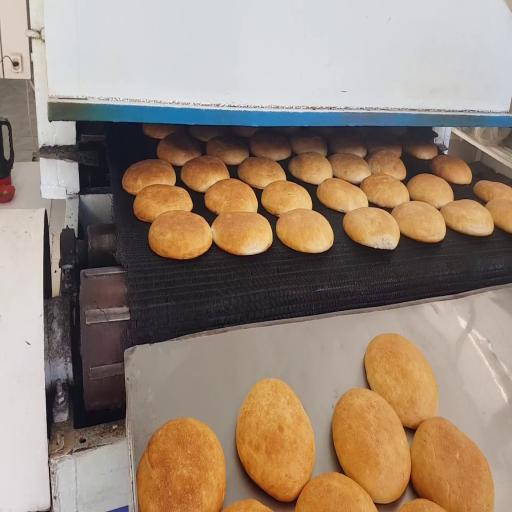bread: (236, 379, 314, 502), (333, 389, 410, 503), (137, 418, 225, 511), (411, 417, 494, 511), (365, 334, 438, 429), (296, 473, 377, 511), (149, 211, 212, 259), (212, 212, 272, 255), (276, 209, 333, 253), (343, 208, 399, 249), (134, 184, 193, 222), (392, 202, 445, 242), (122, 159, 175, 195), (441, 200, 493, 236), (205, 179, 257, 214), (261, 181, 312, 216), (180, 156, 229, 192), (317, 178, 368, 212), (361, 174, 409, 209), (407, 174, 453, 209), (238, 157, 286, 189), (157, 133, 201, 166), (288, 152, 332, 184), (328, 153, 371, 184), (206, 136, 249, 165), (367, 150, 406, 181), (431, 155, 472, 184), (250, 131, 291, 160), (329, 134, 366, 157), (486, 200, 511, 233), (291, 134, 327, 156), (474, 181, 511, 202), (367, 136, 402, 157), (402, 140, 438, 160), (189, 126, 228, 142), (143, 124, 184, 139), (223, 499, 271, 511), (399, 499, 445, 511), (232, 127, 260, 137), (314, 127, 342, 137), (270, 127, 300, 135), (389, 127, 408, 136)
